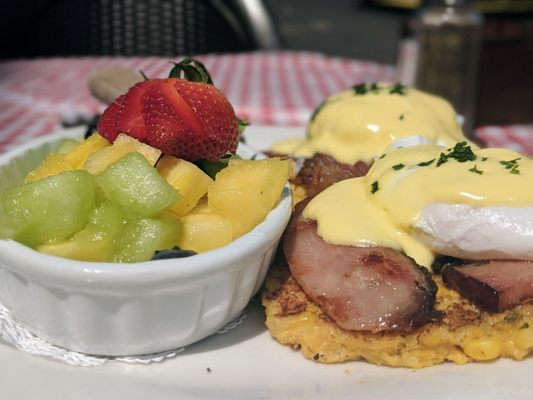soup: (262, 129, 533, 370)
sushi: (0, 68, 295, 360), (0, 168, 296, 358)
